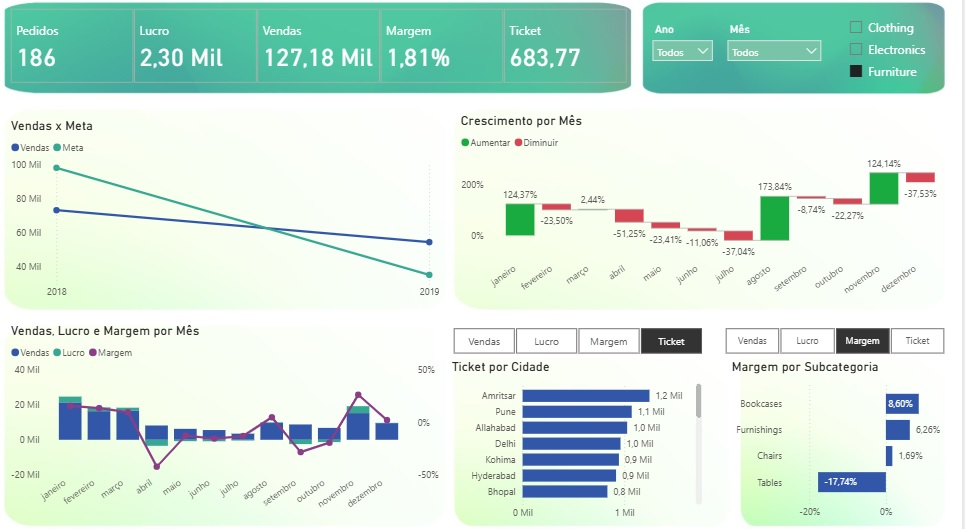

This screenshot's page, from the dashboard's own definition file:
{"tool":"powerbi","page":{"name":"Página 1","canvas":[1280,720],"ordinal":0},"visuals":[{"type":"cardVisual","fields":{"Data":["medidas.Pedidos","medidas.Lucro","medidas.Vendas","medidas.Margem","medidas.Ticket Medio"]},"box":[24.8,15.1,823.1,107.4],"z":0},{"type":"slicer","fields":{"Values":["calendario.Ano"]},"box":[863,34.4,99.1,86.7],"z":1000},{"type":"slicer","fields":{"Values":["calendario.Nome Mes"]},"box":[962.1,34.4,143.1,158.3],"z":2000},{"type":"slicer","fields":{"Values":["metas.category"]},"box":[1119,24.8,129.4,106],"z":3000},{"type":"lineChart","title":"Vendas x Meta","fields":{"Category":["calendario.Data.Variation.Hierarquia de datas.Ano","calendario.Data.Variation.Hierarquia de datas.Mês"],"Y":["medidas.Vendas","Sum(metas.target)"]},"box":[24.8,158.3,572.6,260.1],"z":4000},{"type":"lineStackedColumnComboChart","fields":{"Category":["calendario.Data.Variation.Hierarquia de datas.Ano","calendario.Data.Variation.Hierarquia de datas.Mês"],"Y":["medidas.Vendas","medidas.Lucro"],"Y2":["medidas.Margem"]},"box":[24.8,433.5,572.6,265.6],"z":5000},{"type":"waterfallChart","fields":{"Category":["calendario.Ano Mes.Variation.Hierarquia de datas.Mês"],"Y":["medidas.Crescimento"]},"box":[616.6,158.3,652.4,260.1],"z":6000},{"type":"clusteredBarChart","fields":{"Y":["medidas.Vendas"],"Category":["clientes.city"]},"box":[604.2,480.3,338.6,220.2],"z":7000},{"type":"slicer","fields":{"Values":["Selecao Cidade.Selecao Cidade"]},"box":[586.3,433.5,375.7,46.8],"z":8000},{"type":"clusteredBarChart","fields":{"Y":["medidas.Vendas"],"Category":["vendas.subcategory"]},"box":[971.7,480.3,294.5,218.8],"z":9000},{"type":"slicer","fields":{"Values":["Selecao Subcategoria.Selecao Subcategoria"]},"box":[942.8,433.5,337.2,46.8],"z":10000}]}

Visuals, with their boxes in screenshot pixels (x1, y1, x2, y2), scaled from the page's 1280x720 canvas onto the 965x529 screenshot:
cardVisual - medidas.Pedidos x medidas.Lucro: box=[19, 11, 639, 90]
slicer - calendario.Ano: box=[651, 25, 725, 89]
slicer - calendario.Nome Mes: box=[725, 25, 833, 142]
slicer - metas.category: box=[844, 18, 941, 96]
"Vendas x Meta" lineChart: box=[19, 116, 450, 307]
lineStackedColumnComboChart - calendario.Data.Variation.Hierarquia de datas.Ano x calendario.Data.Variation.Hierarquia de datas.Mês: box=[19, 319, 450, 514]
waterfallChart - calendario.Ano Mes.Variation.Hierarquia de datas.Mês x medidas.Crescimento: box=[465, 116, 957, 307]
clusteredBarChart - medidas.Vendas x clientes.city: box=[456, 353, 711, 515]
slicer - Selecao Cidade.Selecao Cidade: box=[442, 319, 725, 353]
clusteredBarChart - medidas.Vendas x vendas.subcategory: box=[733, 353, 955, 514]
slicer - Selecao Subcategoria.Selecao Subcategoria: box=[711, 319, 964, 353]
